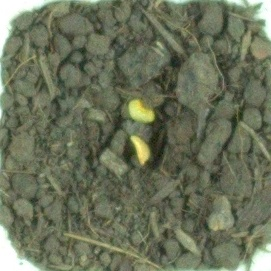pepper seed: (49, 50, 208, 216), (46, 35, 204, 160)
